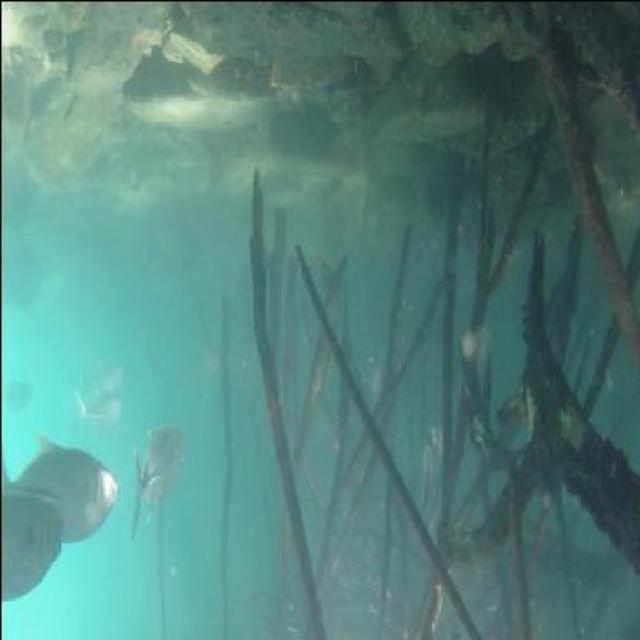Caranx_sexfasciatus_juvenile: (0, 427, 120, 555), (0, 479, 65, 610), (127, 414, 190, 548), (75, 354, 136, 406), (64, 389, 127, 438)
